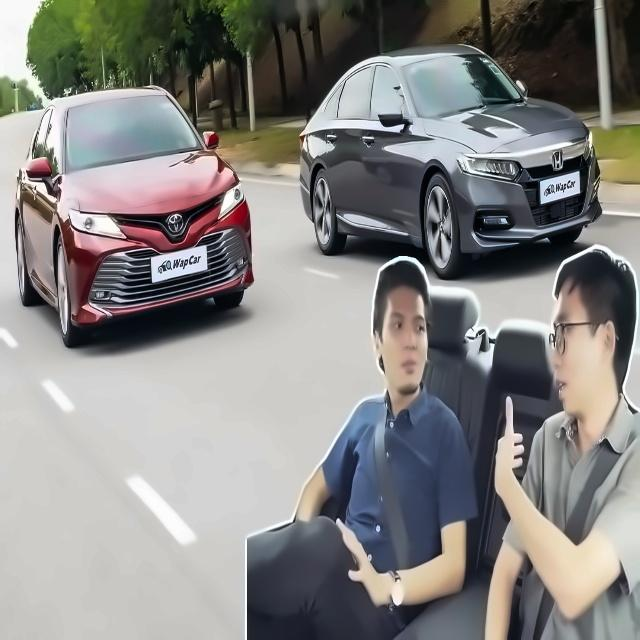Car hood: (61, 146, 241, 215), (421, 96, 592, 161)
Driver-s door - -F-R-: (363, 60, 423, 230), (37, 106, 58, 297)
Fender - -R-R-: (305, 121, 338, 229)
Front bumper: (61, 227, 263, 332), (452, 164, 610, 261)
Headlight - -L-: (216, 177, 249, 223), (573, 128, 599, 163)
Headlight - -R-: (58, 201, 131, 244), (449, 149, 526, 189)
Passenger-s door - -R-R-: (322, 64, 363, 223), (19, 106, 44, 280)
Rear bumper: (286, 169, 316, 224)
Rear light - -R-: (292, 125, 309, 152)
Side bumper - -R-: (332, 210, 429, 248), (22, 263, 65, 316)
Side mirror - -L-: (199, 123, 229, 157), (511, 76, 537, 103)
Side mirror - -R-: (22, 155, 63, 196), (373, 102, 415, 140)
